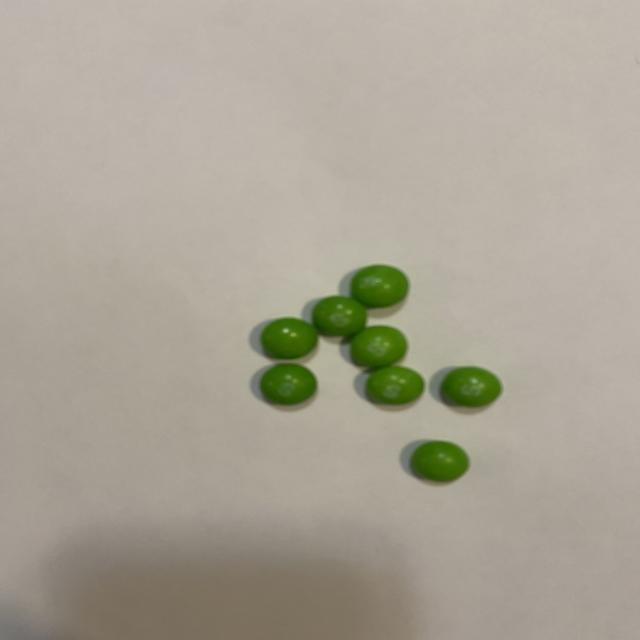smartie: (351, 265, 408, 308), (442, 367, 502, 407), (351, 326, 407, 368), (411, 442, 469, 482), (261, 318, 317, 359), (260, 364, 316, 405), (366, 367, 423, 405), (312, 296, 366, 336)
